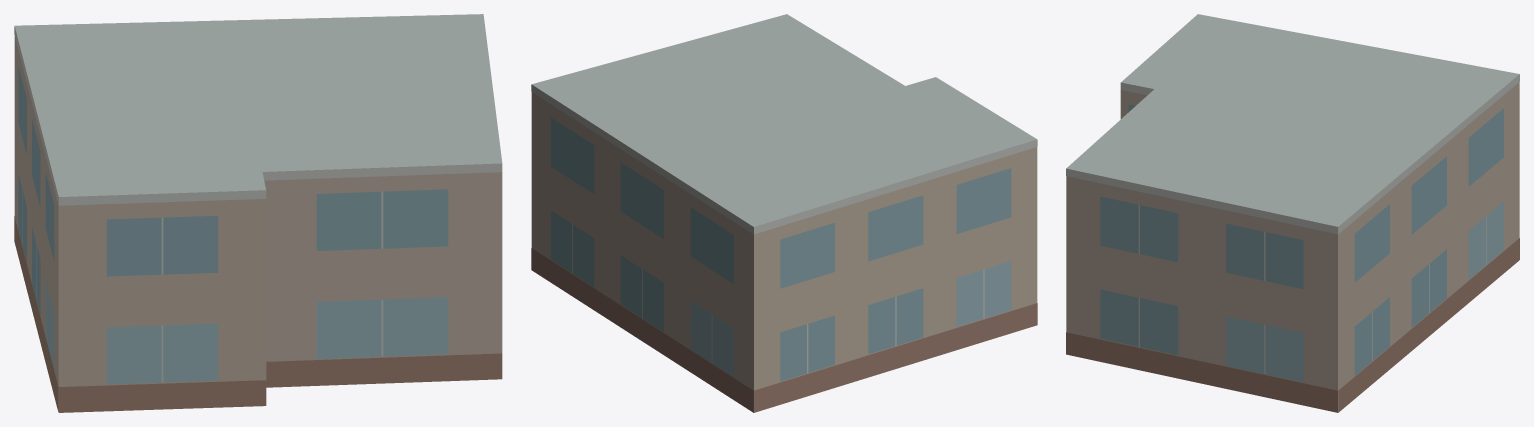
The model's file is survey-upis-32772641.glb.
3 renders of one model, left to right at view 1: azimuth 30°, elevation 25°; view 2: azimuth 150°, elevation 25°; view 3: azimuth 270°, elevation 25°, orthographic. The views are drawn at different scales.
Visible parts, largest first — view 1: survey-upis-32772641.tmp; view 2: survey-upis-32772641.tmp; view 3: survey-upis-32772641.tmp.
Boxes of the visible parts, left/top/right/bottom form: survey-upis-32772641.tmp: left=14, top=14, right=502, bottom=412; survey-upis-32772641.tmp: left=531, top=14, right=1037, bottom=412; survey-upis-32772641.tmp: left=1066, top=14, right=1519, bottom=412.
Size of the model in its own units: 14.99 by 6.1 by 13.5.
